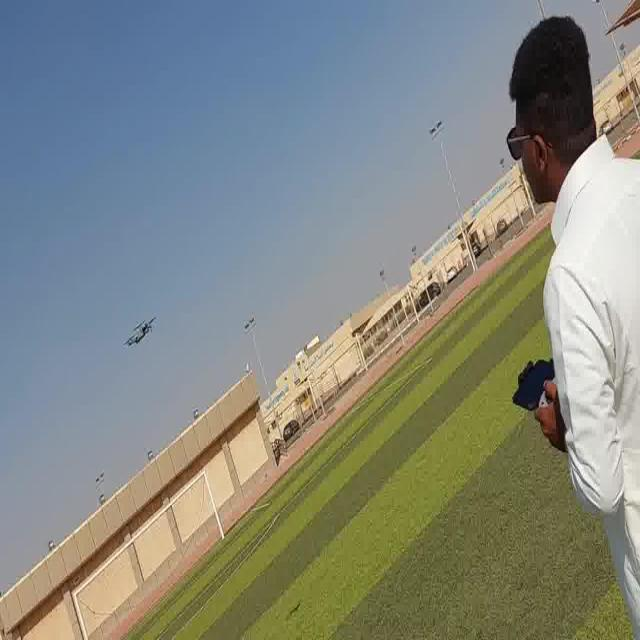drone: (122, 307, 160, 350)
